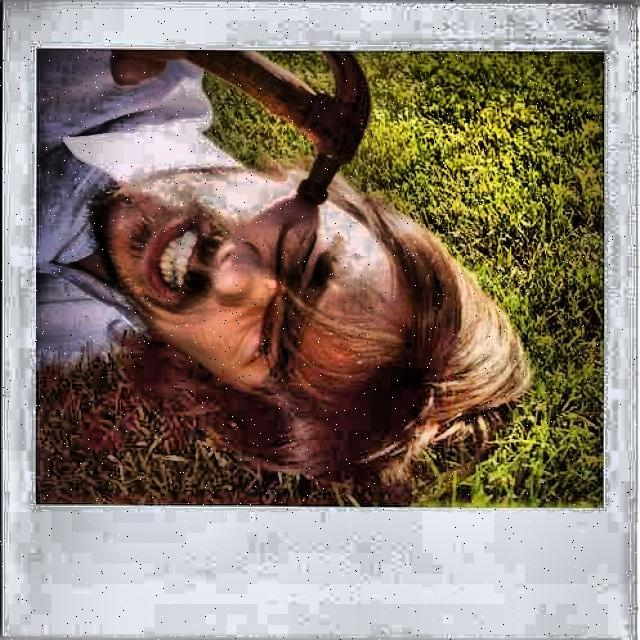hammer: (179, 43, 379, 205)
